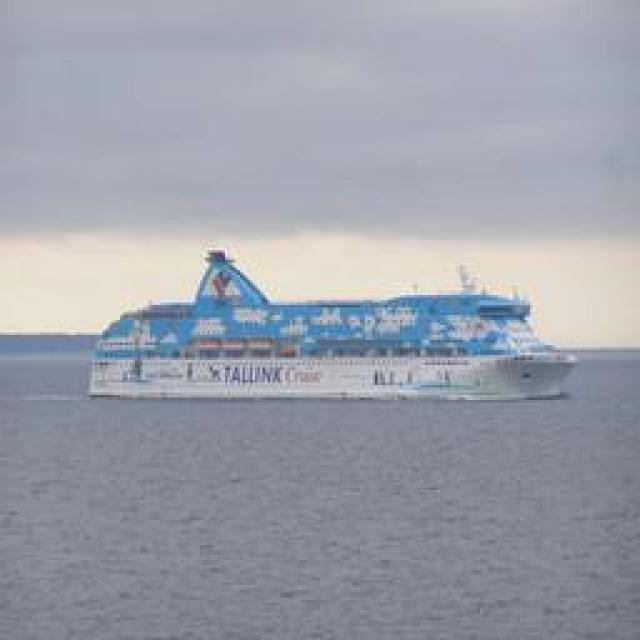CIV_Ship: (94, 244, 578, 406)
